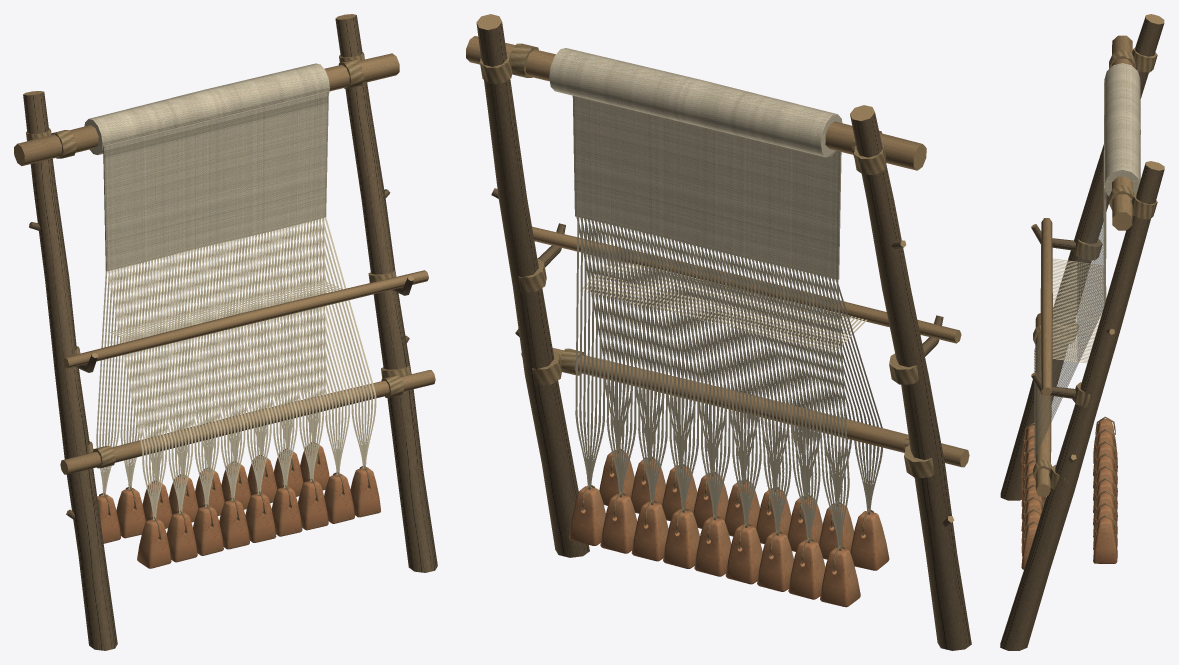
Rendered from loom_weaving.glb.
The picture shows the model from 3 angles, left to right: view 1: azimuth 30°, elevation 25°; view 2: azimuth 150°, elevation 25°; view 3: azimuth 270°, elevation 25°; orthographic projection. The views are drawn at different scales.
Parts seen in each view (by area): view 1: warp, frame, cloth, weight_09_front, weight_16_front, weight_10_front, weight_11_front, weight_13_front, weight_14_front, weight_15_front, weight_17_front, weight_12_front (+10 smaller); view 2: warp, frame, cloth, weight_00_back, weight_09_front, weight_01_back, weight_03_back, weight_08_back, weight_05_back, weight_06_back, weight_02_back, weight_04_back (+10 smaller); view 3: frame, warp, cloth, tie_loops, weight_08_back, weight_17_front, weight_07_back, weight_04_back, weight_06_back, weight_02_back, weight_03_back, weight_05_back (+2 smaller).
Part boxes in pixels (box(x1,y1,x2,y2)): warp: box(96, 217, 376, 521); frame: box(14, 14, 437, 650); cloth: box(84, 63, 329, 271); weight_09_front: box(137, 518, 171, 568); weight_16_front: box(324, 473, 354, 523); weight_10_front: box(166, 512, 197, 562); weight_11_front: box(193, 505, 223, 555); weight_13_front: box(245, 492, 276, 542); weight_14_front: box(271, 486, 302, 536); weight_15_front: box(298, 480, 328, 530); weight_17_front: box(350, 467, 380, 517); weight_12_front: box(219, 499, 249, 549); warp: box(575, 217, 882, 550); frame: box(466, 14, 971, 650); cloth: box(549, 48, 842, 279); weight_00_back: box(820, 547, 860, 607); weight_09_front: box(850, 511, 889, 570); weight_01_back: box(788, 539, 825, 599); weight_03_back: box(725, 524, 762, 584); weight_08_back: box(569, 486, 605, 545); weight_05_back: box(663, 509, 699, 568); weight_06_back: box(631, 501, 668, 561); weight_02_back: box(757, 532, 793, 591); weight_04_back: box(694, 516, 731, 576); frame: box(1000, 14, 1164, 650); warp: box(1034, 207, 1104, 460); cloth: box(1103, 63, 1140, 304); tie_loops: box(1023, 416, 1115, 539); weight_08_back: box(1093, 517, 1117, 563); weight_17_front: box(1021, 523, 1037, 569); weight_07_back: box(1093, 505, 1117, 550); weight_04_back: box(1093, 468, 1117, 513); weight_06_back: box(1093, 493, 1117, 537); weight_02_back: box(1093, 443, 1117, 488); weight_03_back: box(1093, 456, 1117, 500); weight_05_back: box(1093, 480, 1117, 525).
Bounding box in the file's own units: 1.5 × 1.91 × 0.5915.
Materials: 3 (3 with a texture image).
